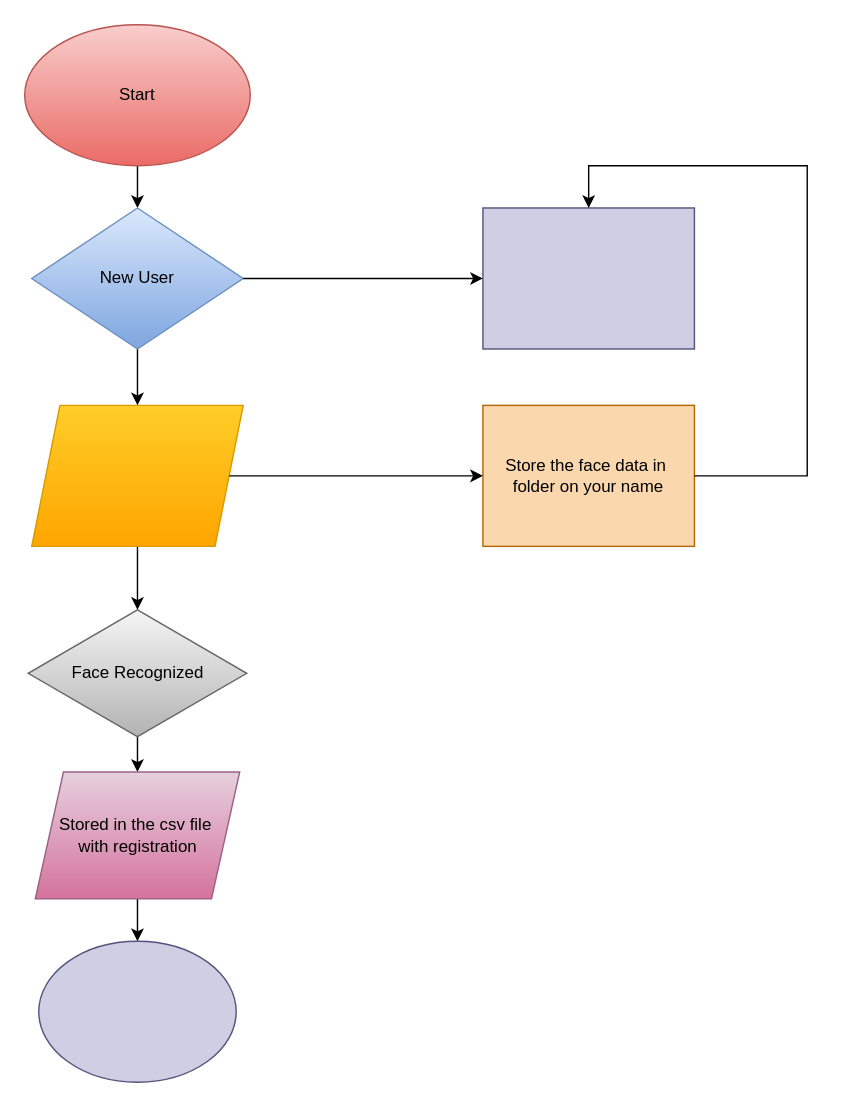
The diagram is 843 pixels wide and 1107 high, and some of its shapes have lost their labels. The shapes that lost their labels are listed below. From the top down, each one's box as (x1, y1, x2, y2) in pixels, then its label:
(482, 207, 694, 349): Give your photograph
(30, 404, 243, 546): Recognize the face
(37, 940, 236, 1082): End
